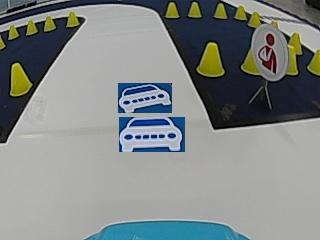cone: (197, 41, 225, 78), (9, 63, 30, 95), (241, 48, 258, 74), (285, 42, 298, 75), (307, 47, 319, 74), (165, 2, 179, 18), (65, 11, 79, 27), (247, 11, 261, 27), (188, 2, 202, 17), (214, 3, 227, 19), (43, 16, 56, 31), (26, 19, 38, 34), (7, 24, 19, 39), (235, 5, 246, 20), (0, 33, 6, 49)
patient: (255, 28, 283, 79)
